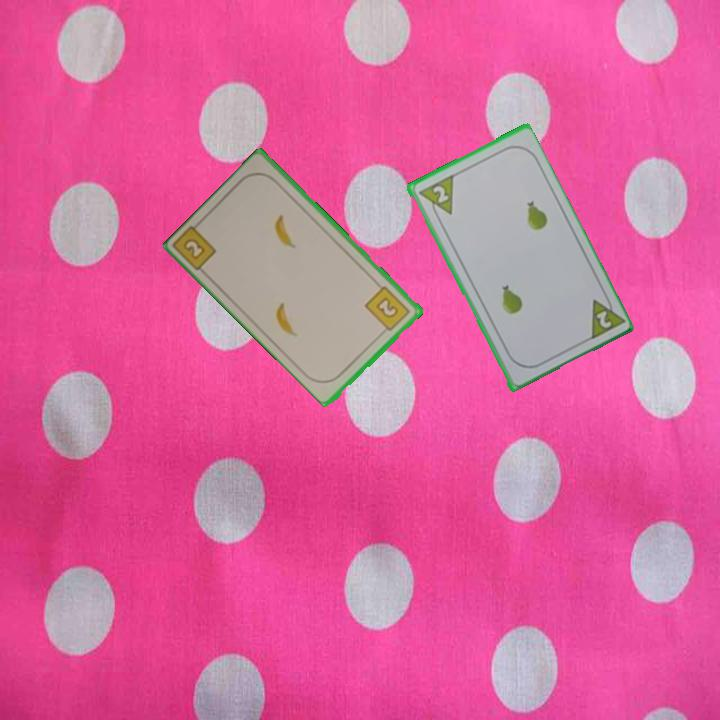2b: (362, 283, 413, 336), (180, 235, 208, 263)
2p: (584, 289, 626, 343), (413, 171, 456, 223)
